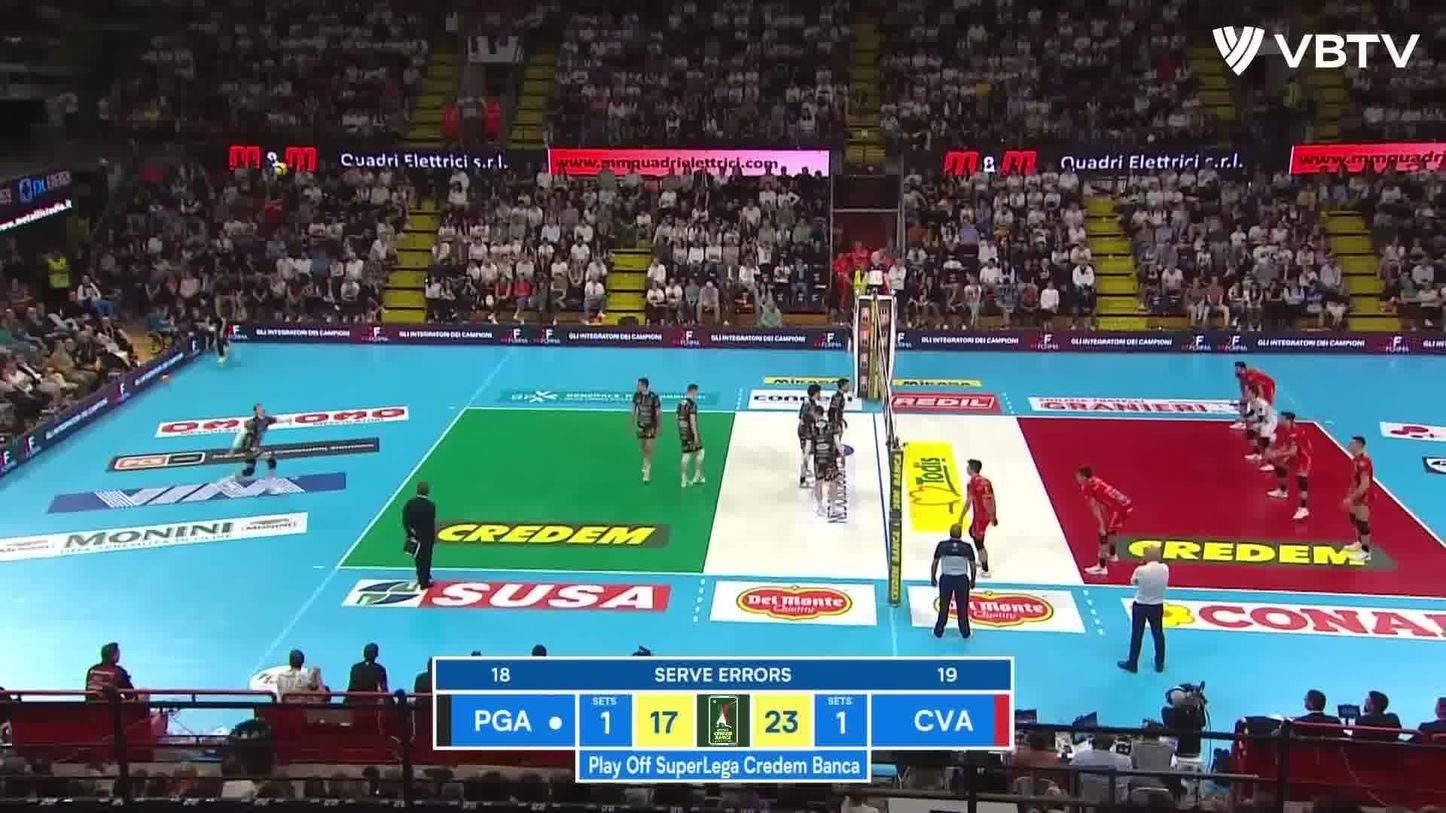balls: (271, 158, 290, 175)
